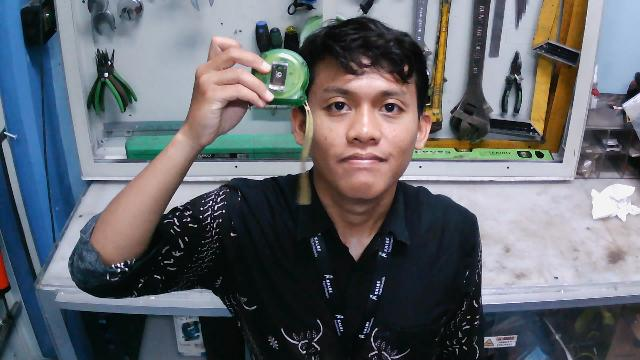meteran: (241, 41, 314, 122)
